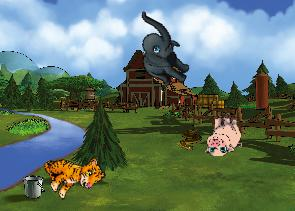elephant: (117, 10, 205, 92)
pig: (204, 114, 242, 156)
tiger: (38, 140, 107, 205)
